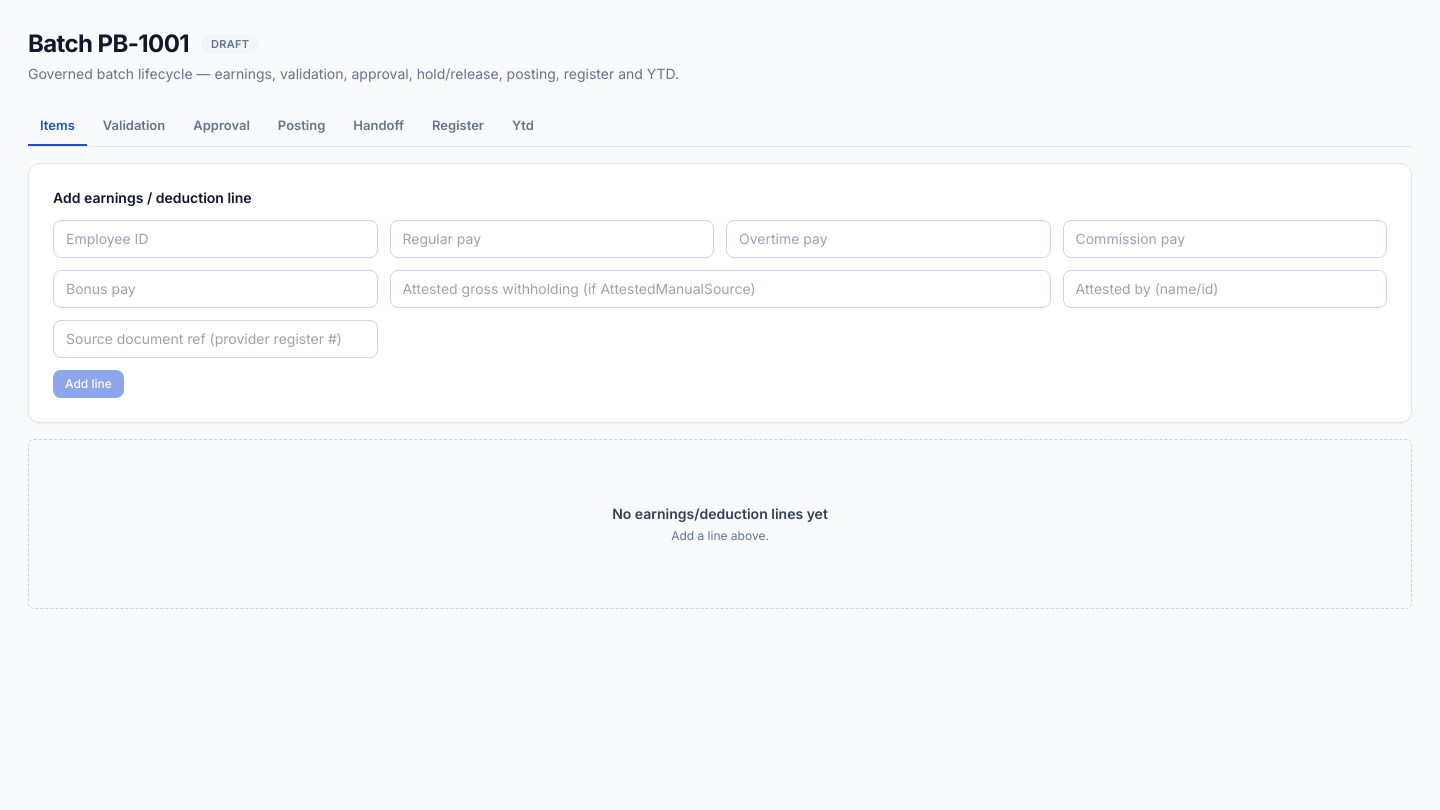
Scenario: PayrollBatchWorkbench — unauthorized UI reflection (CE-13 RBAC gap-closure) › disables validate, approve, hold/release, post, and void actions when no permissions are granted
Click the button with test id "payroll-batch-tab-validation". click: (134, 127)
box: [91, 108, 177, 146]
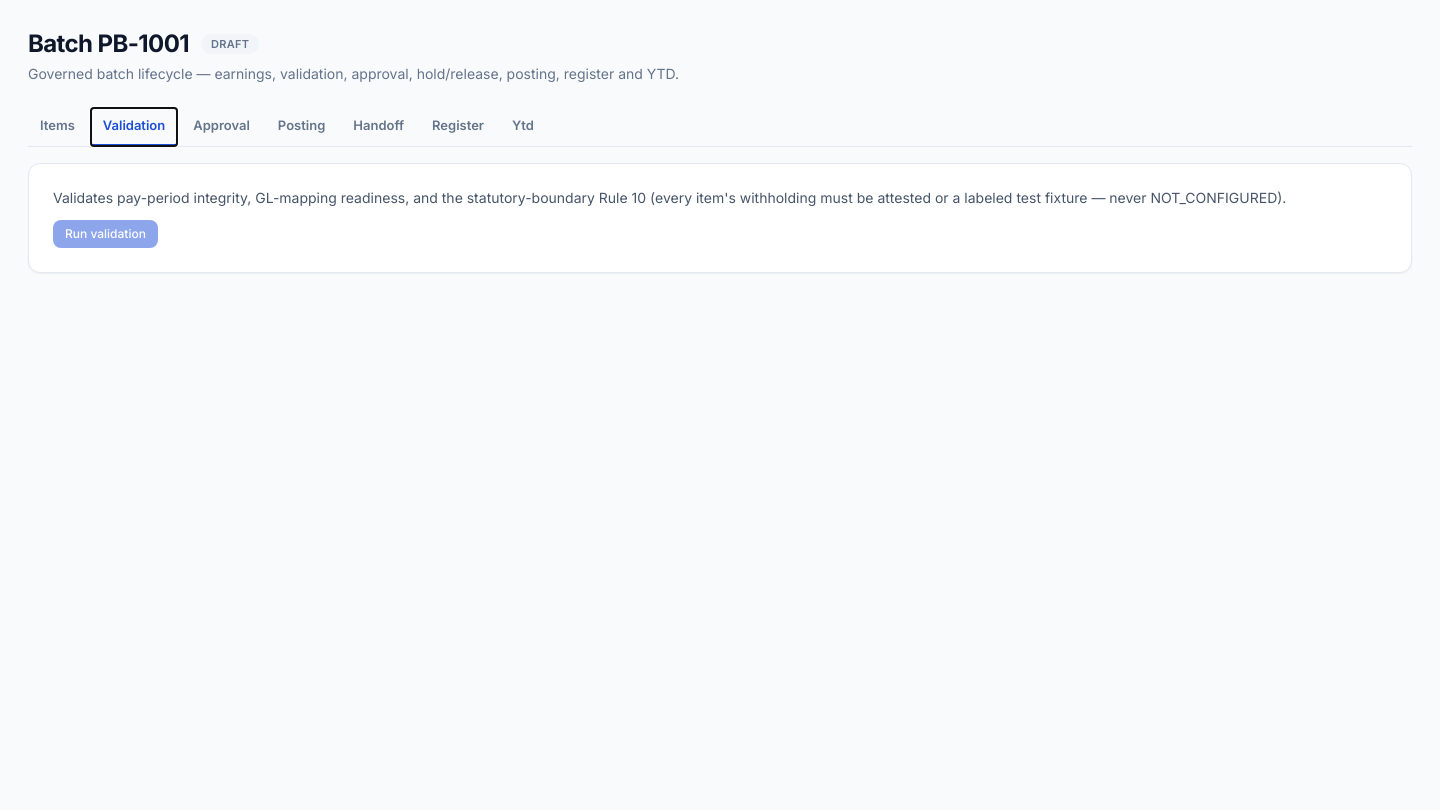
expect the button with test id "payroll-validate-btn" is disabled: met, box [53, 220, 158, 248]
Click the button with test id "payroll-batch-tab-approval". click: (222, 127)
box: [181, 108, 262, 146]
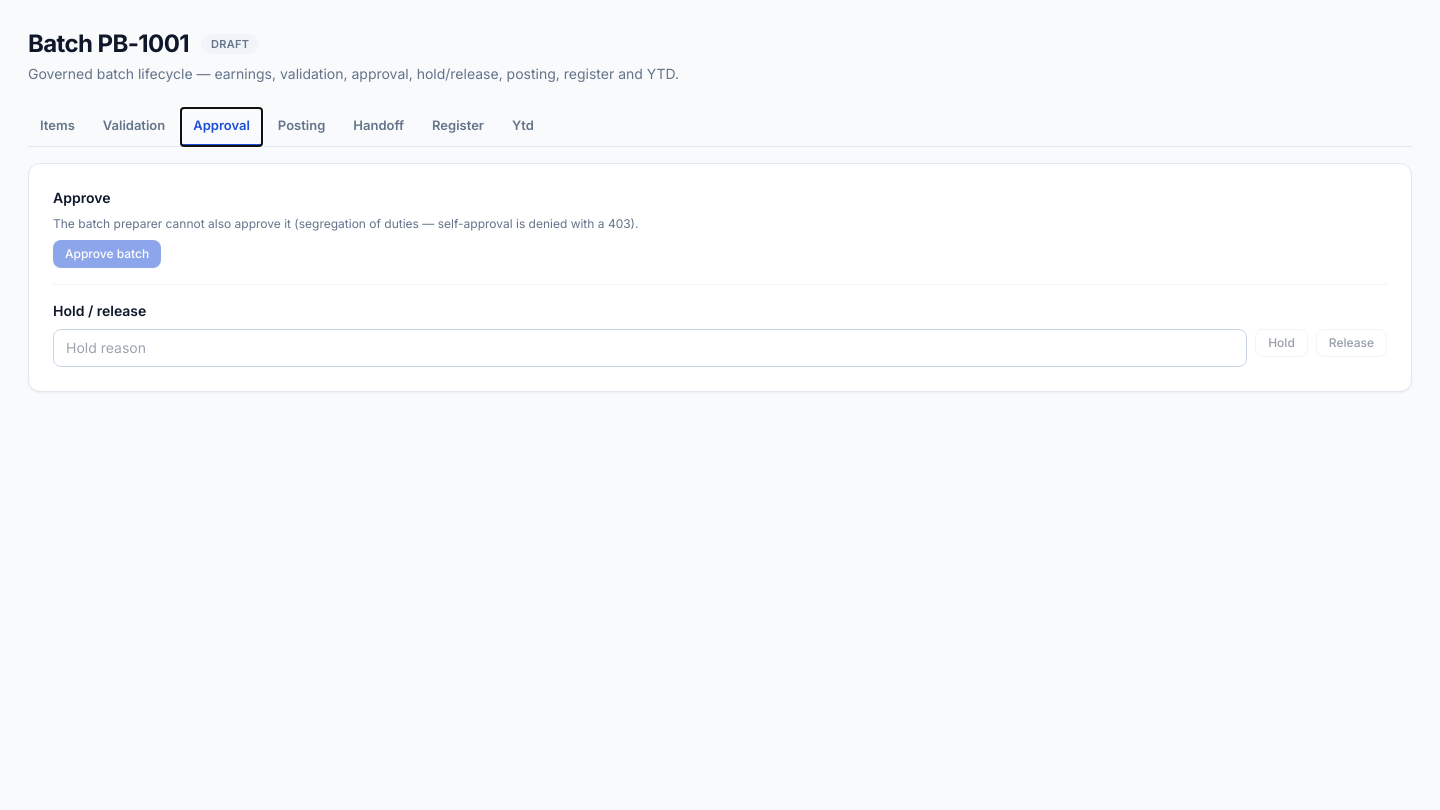
expect the button with test id "payroll-approve-btn" is disabled: met, box [53, 240, 161, 268]
expect the button with test id "payroll-hold-btn" is disabled: met, box [1255, 328, 1308, 356]
expect the button with test id "payroll-release-btn" is disabled: met, box [1316, 328, 1387, 356]
Click the button with test id "payroll-batch-tab-posting". click: (302, 127)
box: [266, 108, 337, 146]
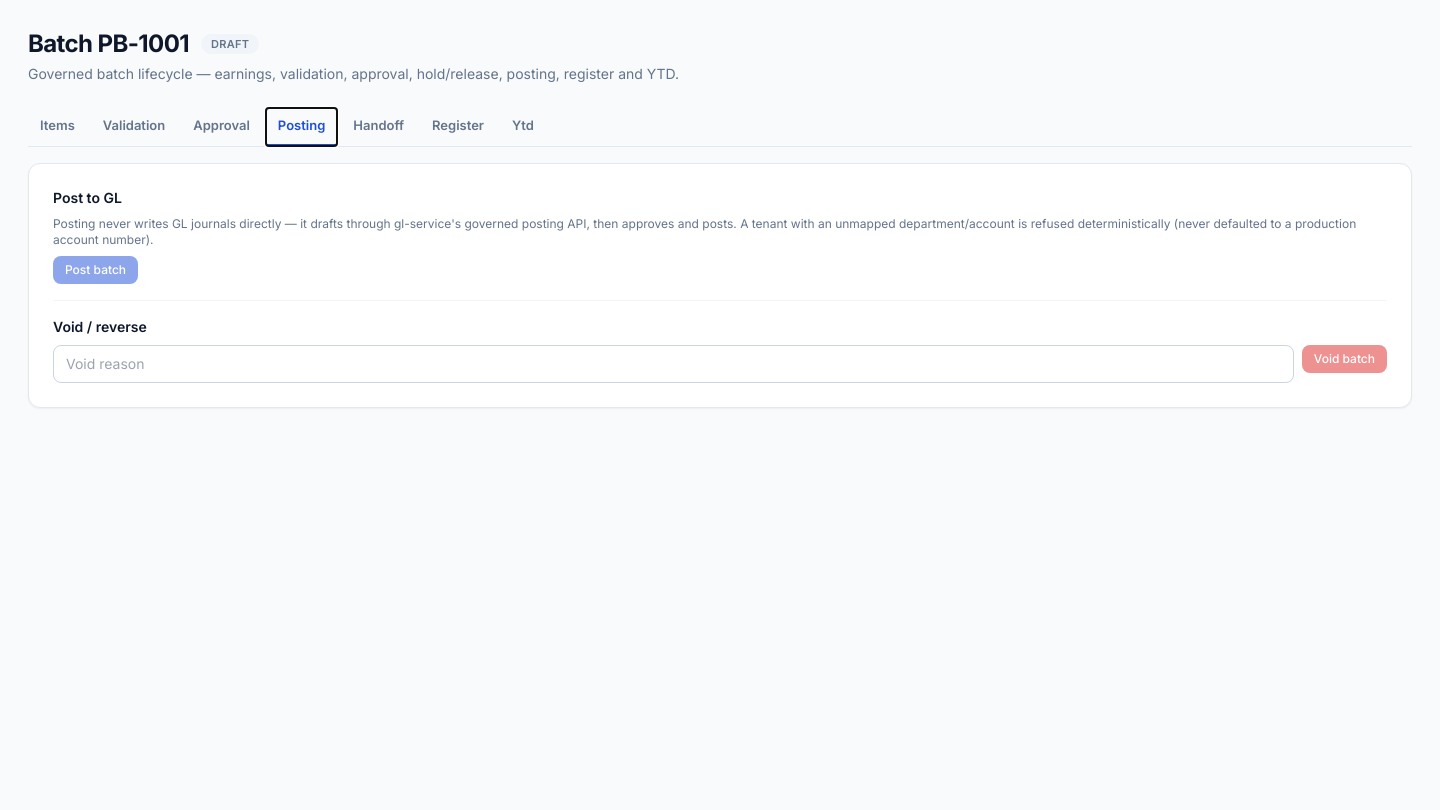
expect the button with test id "payroll-post-btn" is disabled: met, box [53, 256, 138, 284]
expect the button with test id "payroll-void-btn" is disabled: met, box [1302, 344, 1387, 372]
